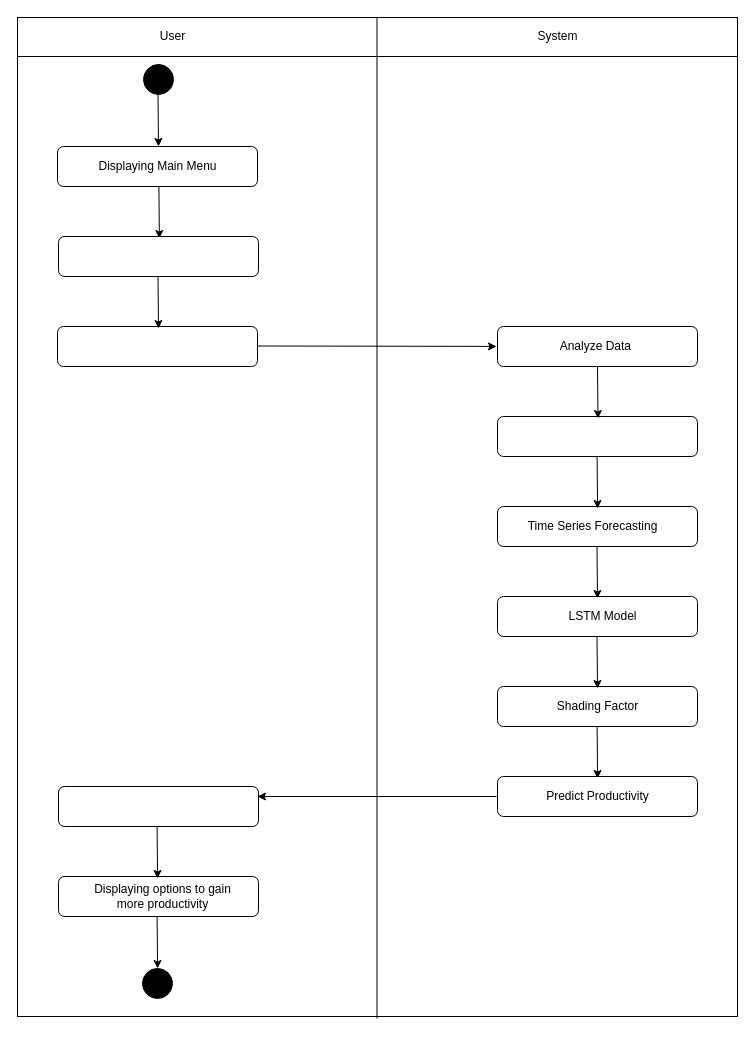
This 756x1037 diagram has some shape labels left out. The box of each missing label's shape, as (x1, y1, x2, y2) in pixels:
Data Input: (56, 326, 258, 366)
Displaying Productivity: (58, 786, 258, 826)
Filtration of Data: (496, 416, 698, 456)
User login: (58, 236, 258, 276)
